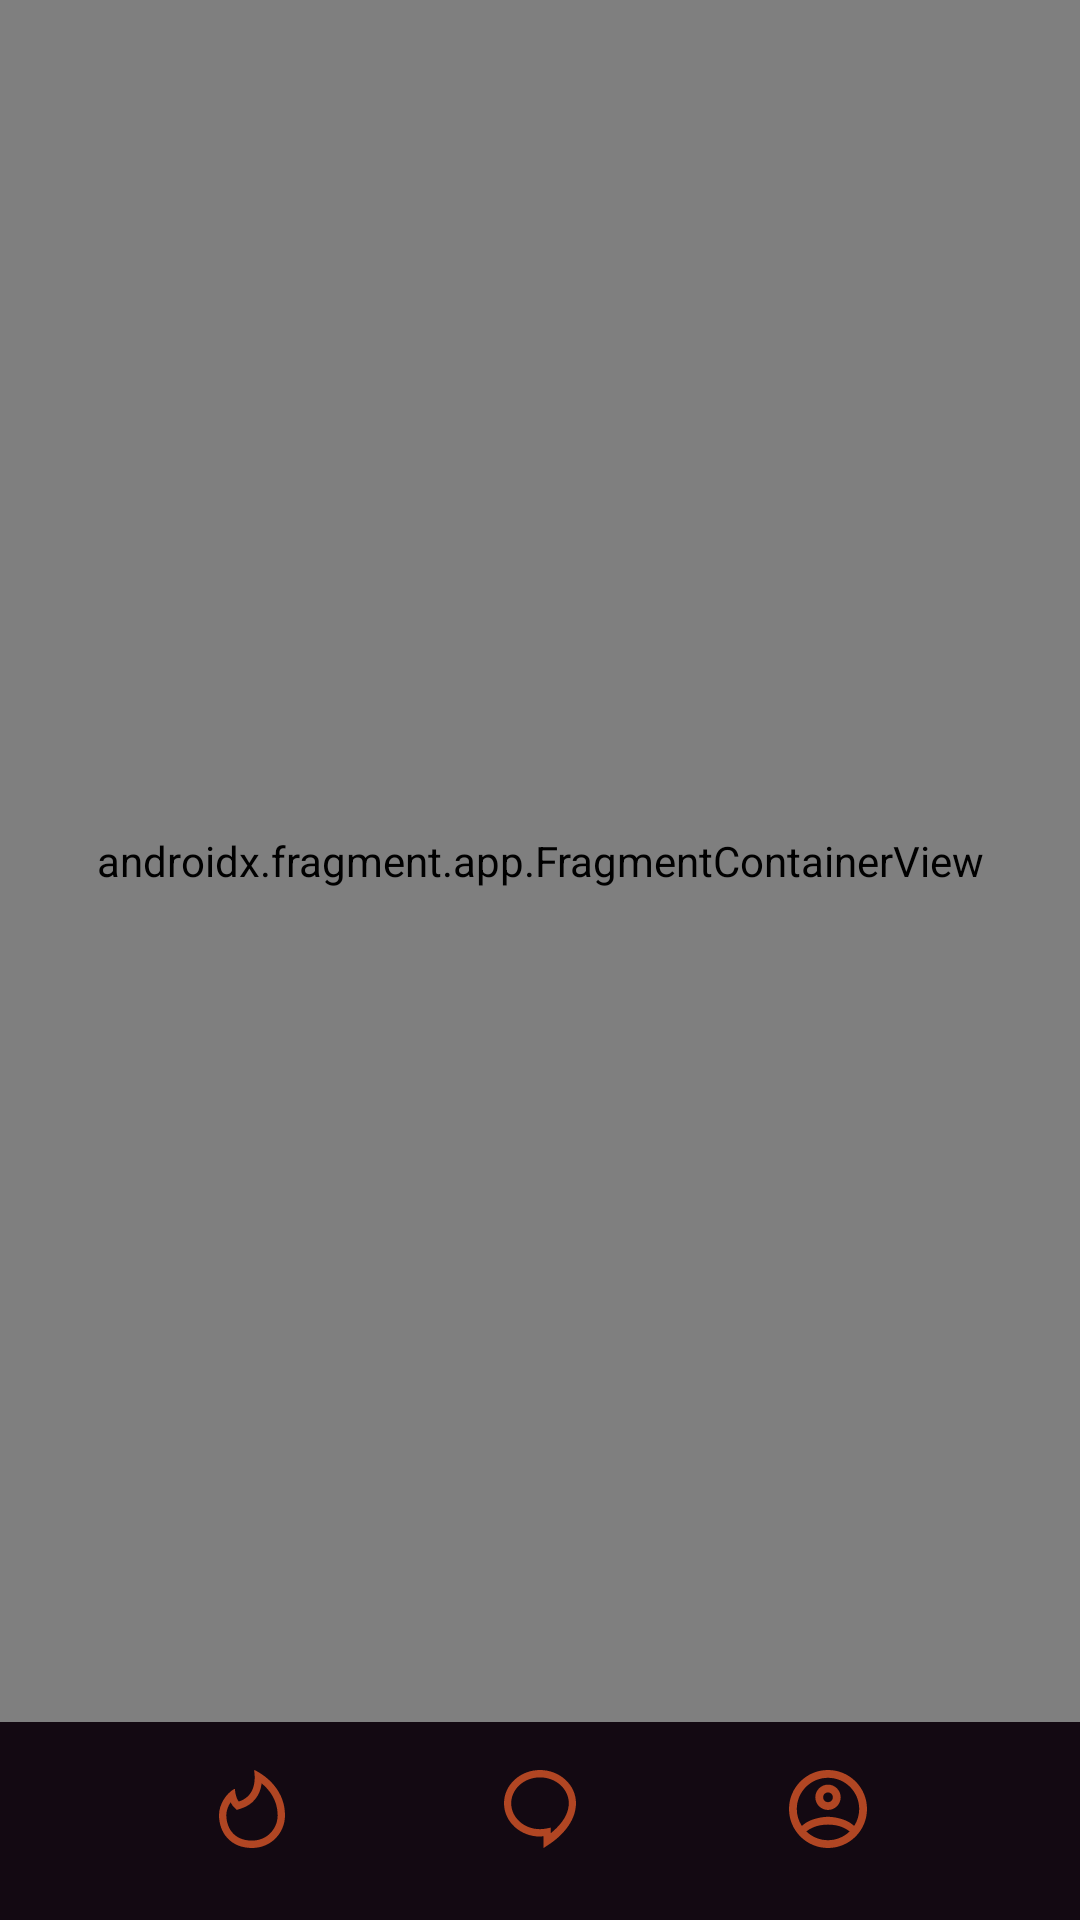

Screen size 1080×1920. Icon name, then its center in pixels as point (x, y):
chat: point (540, 1809)
profile: point (828, 1809)
